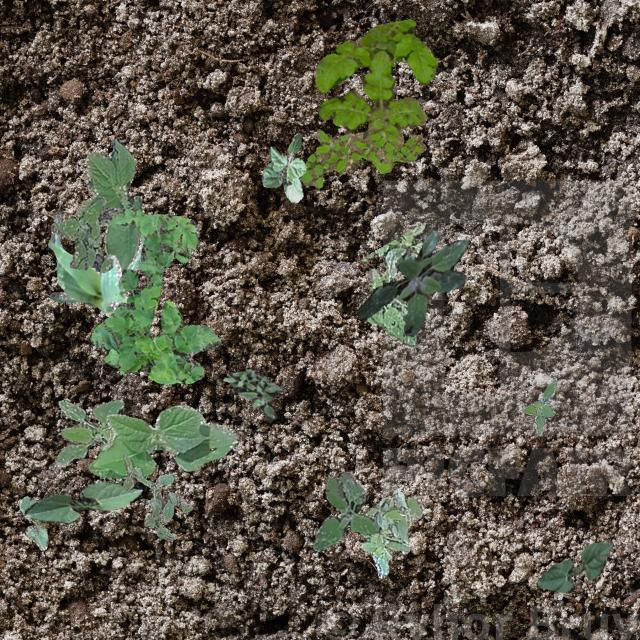crop: (87, 404, 235, 478), (48, 214, 144, 316), (74, 138, 140, 272), (23, 478, 142, 522), (536, 540, 612, 592), (260, 132, 306, 202), (18, 494, 46, 550)
weed: (90, 206, 220, 382), (314, 18, 436, 172), (357, 230, 468, 336), (300, 118, 426, 188), (360, 222, 430, 346), (122, 454, 192, 540), (312, 470, 381, 550), (360, 489, 422, 576), (49, 194, 112, 272), (54, 398, 122, 466), (222, 368, 282, 420), (522, 378, 556, 434)
